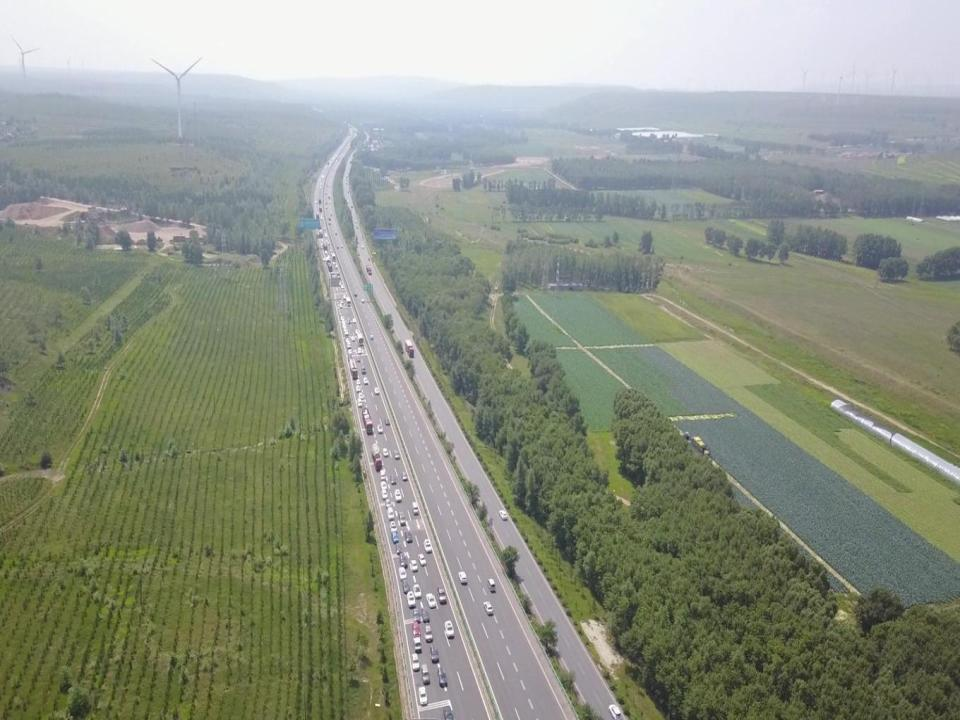bus: (356, 333, 364, 344)
car: (608, 703, 622, 720), (438, 668, 448, 687), (418, 687, 428, 705), (421, 664, 430, 684), (445, 620, 455, 638), (430, 644, 439, 664), (424, 624, 433, 642), (411, 653, 420, 670), (407, 591, 416, 608), (426, 593, 436, 608), (413, 636, 422, 652), (412, 608, 421, 623), (443, 707, 453, 720), (412, 620, 420, 636), (424, 538, 432, 554), (421, 608, 430, 622), (413, 584, 422, 598), (458, 571, 468, 583), (402, 579, 410, 594), (484, 602, 492, 616), (399, 552, 407, 566), (499, 510, 508, 522), (398, 566, 406, 579), (410, 559, 418, 572), (404, 531, 412, 543), (389, 520, 397, 532), (391, 531, 399, 542), (419, 554, 426, 566), (396, 543, 403, 555), (381, 488, 388, 500), (390, 474, 397, 485), (393, 448, 400, 459), (385, 499, 391, 509), (401, 471, 407, 481), (382, 447, 388, 457), (380, 470, 385, 481), (377, 424, 383, 433), (384, 417, 390, 426), (381, 480, 386, 489), (373, 387, 379, 394), (358, 398, 362, 407), (364, 376, 368, 385), (358, 392, 363, 399), (361, 367, 365, 374), (356, 378, 360, 385), (356, 385, 360, 391), (371, 333, 374, 341), (354, 292, 358, 296), (358, 348, 361, 353), (361, 299, 364, 303)
truck: (361, 406, 373, 436), (370, 443, 382, 472), (404, 338, 414, 358), (349, 358, 358, 379), (366, 266, 372, 274)
van: (437, 586, 446, 603), (487, 578, 496, 592), (394, 488, 402, 502), (398, 512, 406, 525), (387, 507, 394, 520), (411, 502, 418, 514)
